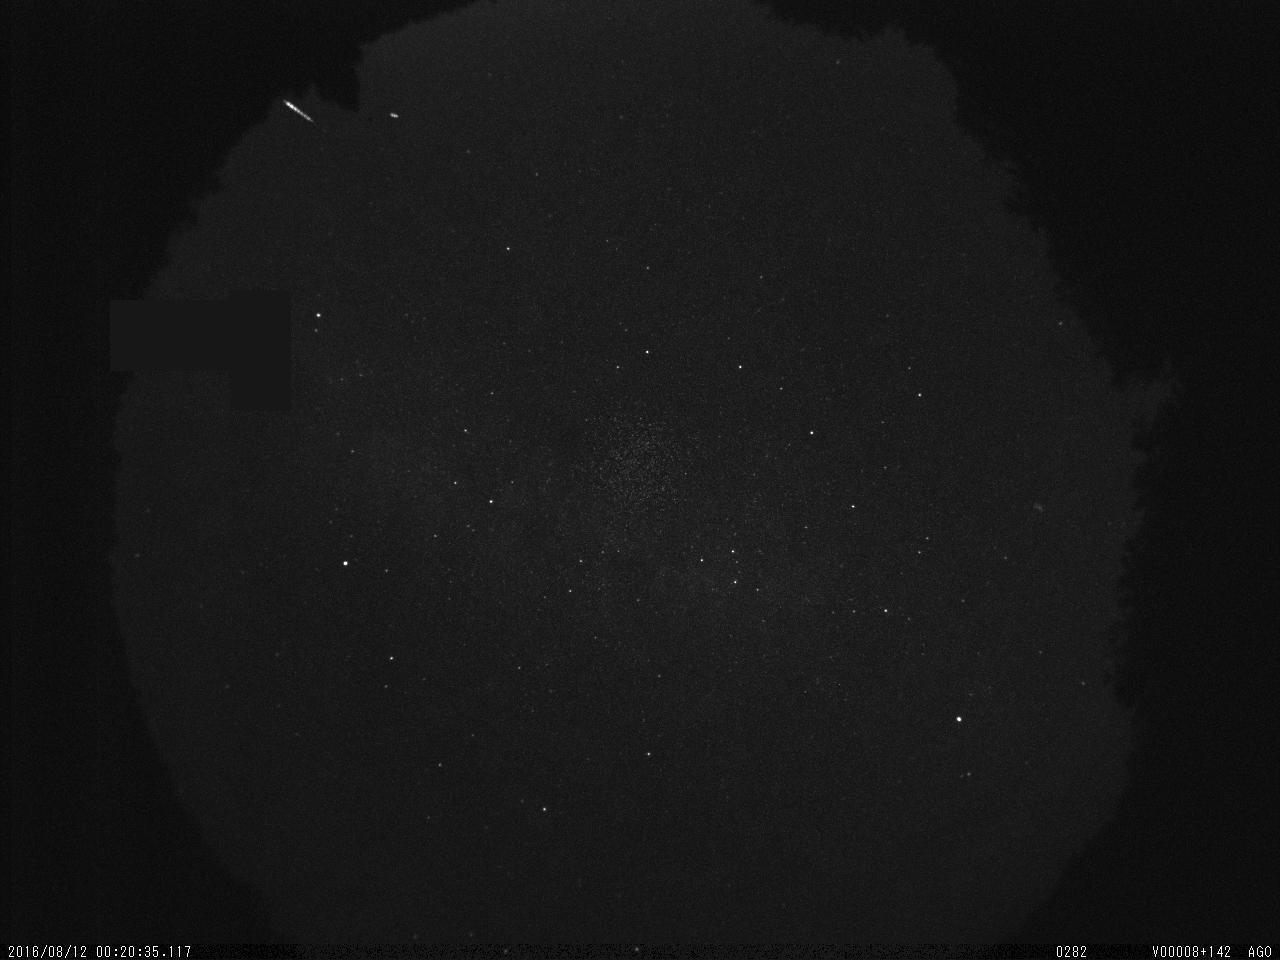Meteor: (280, 96, 313, 122)
